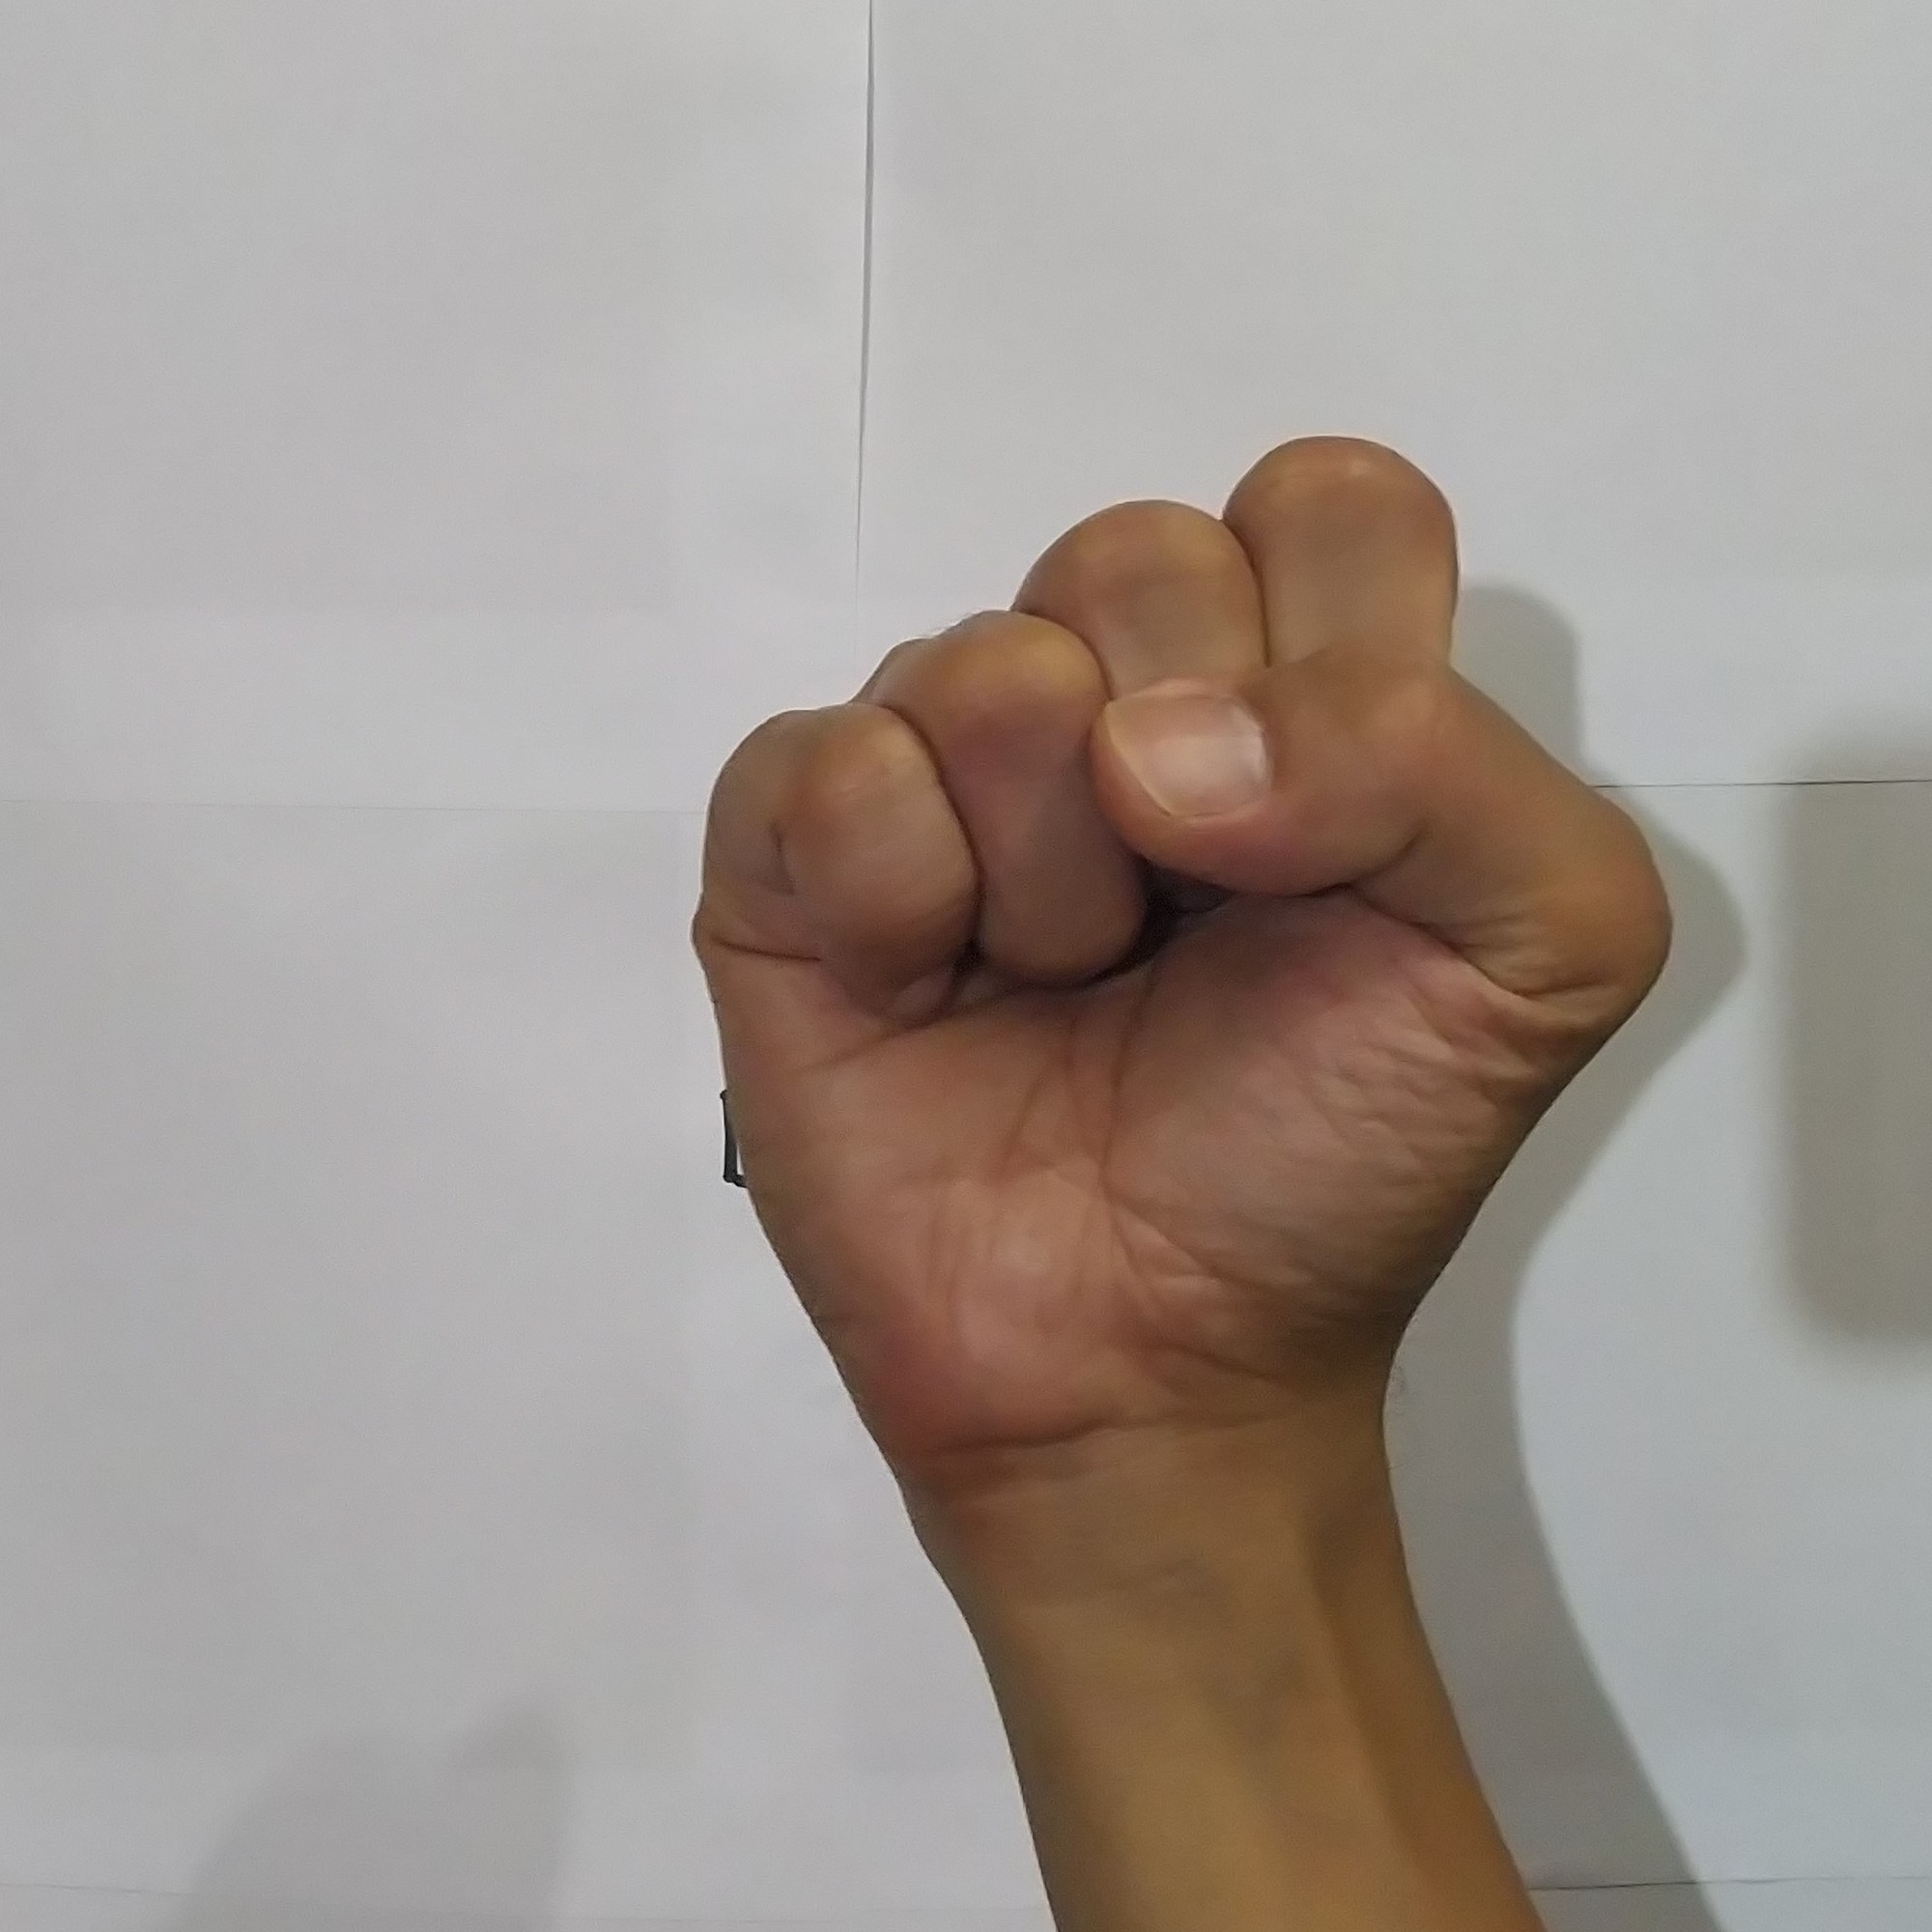S: (658, 412, 1704, 1410)
